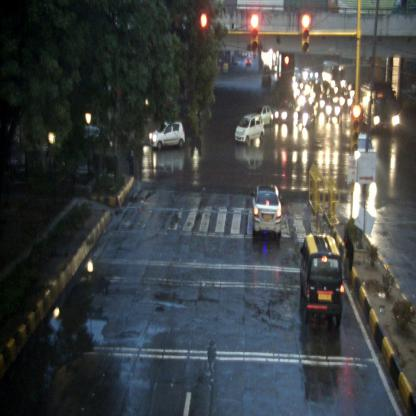bus: (360, 79, 398, 137), (323, 61, 346, 92)
car: (299, 234, 343, 328), (251, 185, 284, 243), (149, 120, 185, 152), (234, 112, 266, 146), (254, 105, 275, 128)
